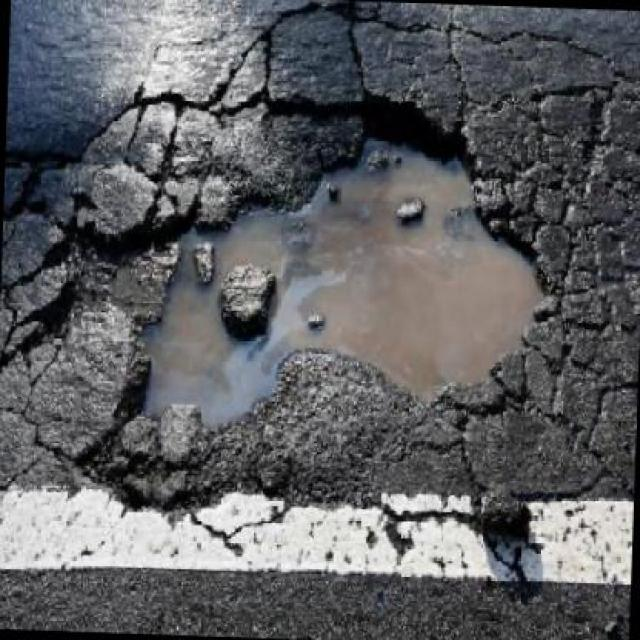pothole1: (68, 73, 566, 522)
